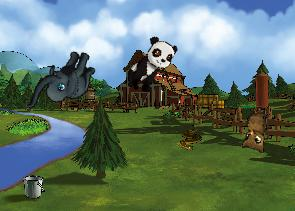elephant: (25, 40, 99, 123)
owl: (236, 105, 269, 155)
panda: (121, 32, 180, 99)
